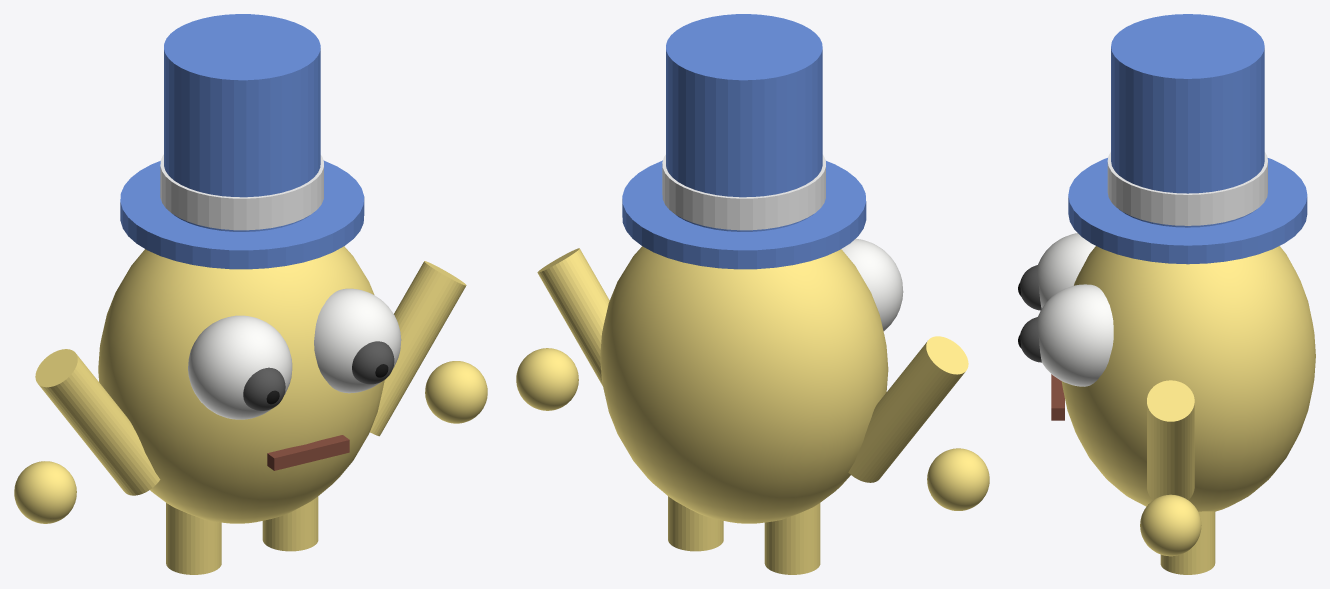
The model's file is sr_pantalones.glb.
3 renders of one model, left to right at view 1: azimuth 30°, elevation 25°; view 2: azimuth 150°, elevation 25°; view 3: azimuth 270°, elevation 25°, orthographic. The views are drawn at different scales.
Parts seen in each view (by area): view 1: sr_pantalones; view 2: sr_pantalones; view 3: sr_pantalones.
Part boxes in pixels (bbox=[...]): sr_pantalones: bbox=[14, 14, 487, 574]; sr_pantalones: bbox=[516, 14, 989, 574]; sr_pantalones: bbox=[1018, 14, 1315, 574].
Bounding box in the file's own units: 0.154 × 0.1595 × 0.0872.
